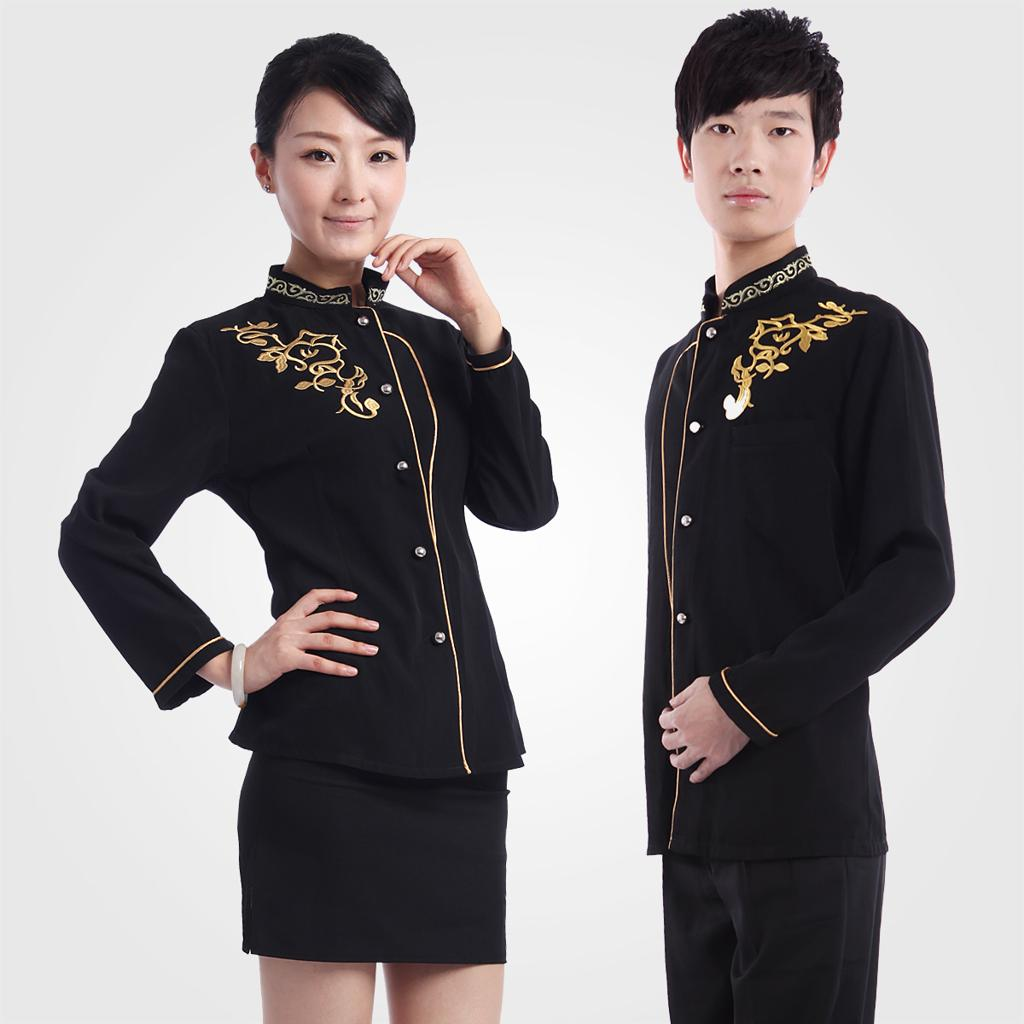face: (272, 90, 406, 262), (688, 82, 812, 240)
